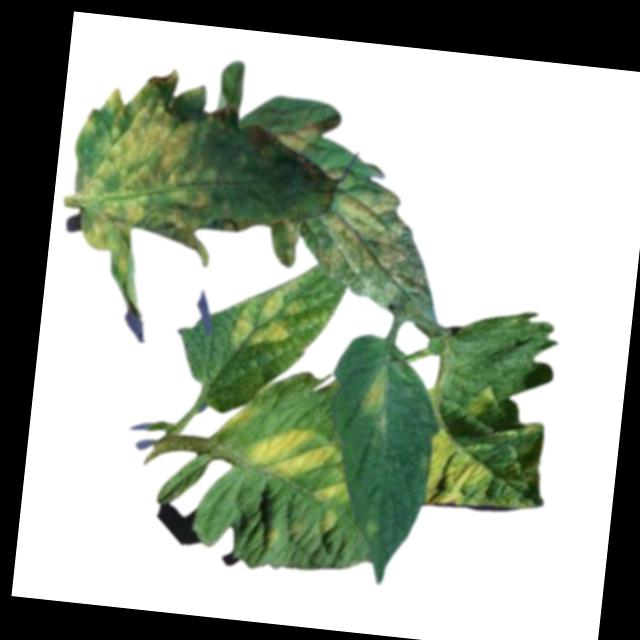Leaf_Mold: (67, 84, 228, 280), (311, 184, 431, 296), (222, 269, 306, 357), (421, 427, 497, 515), (244, 421, 336, 481), (307, 476, 354, 537), (266, 216, 302, 270), (273, 119, 320, 158), (360, 366, 392, 420), (464, 379, 498, 420)
